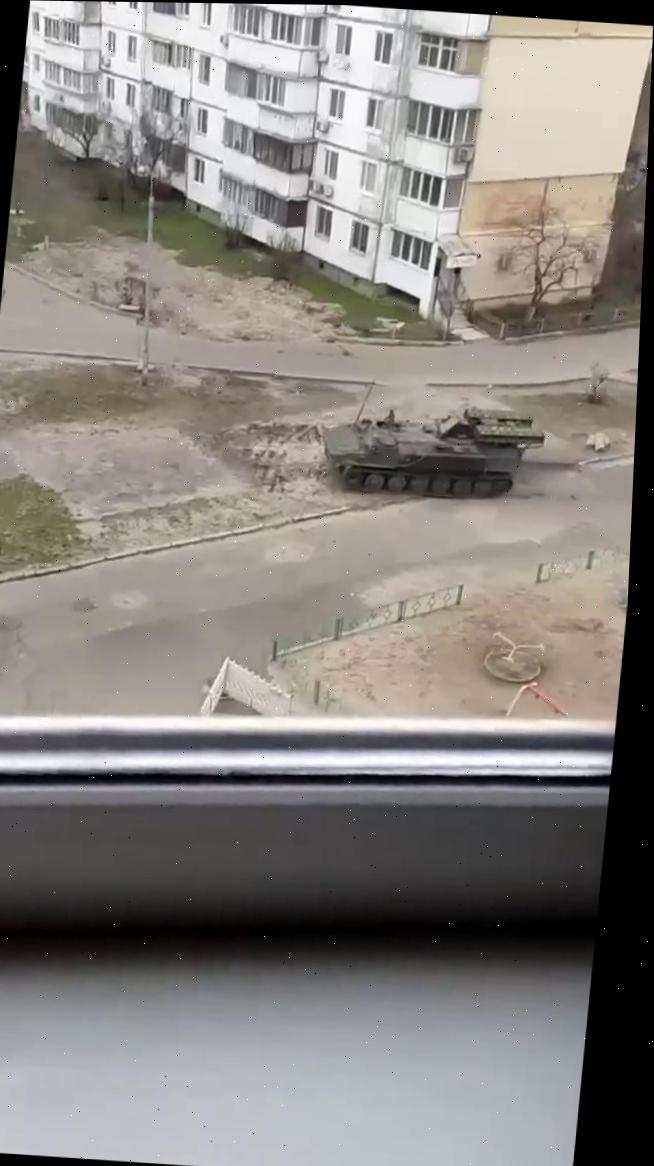tank: (314, 399, 550, 507)
